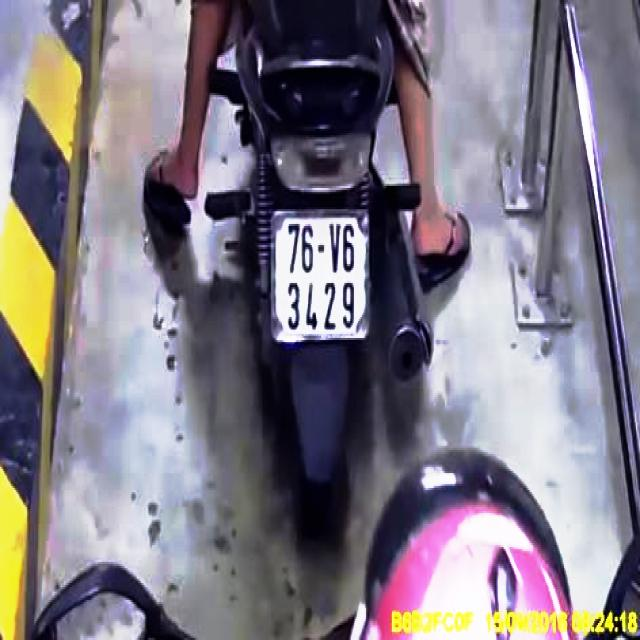license_plate: (275, 216, 370, 339)
